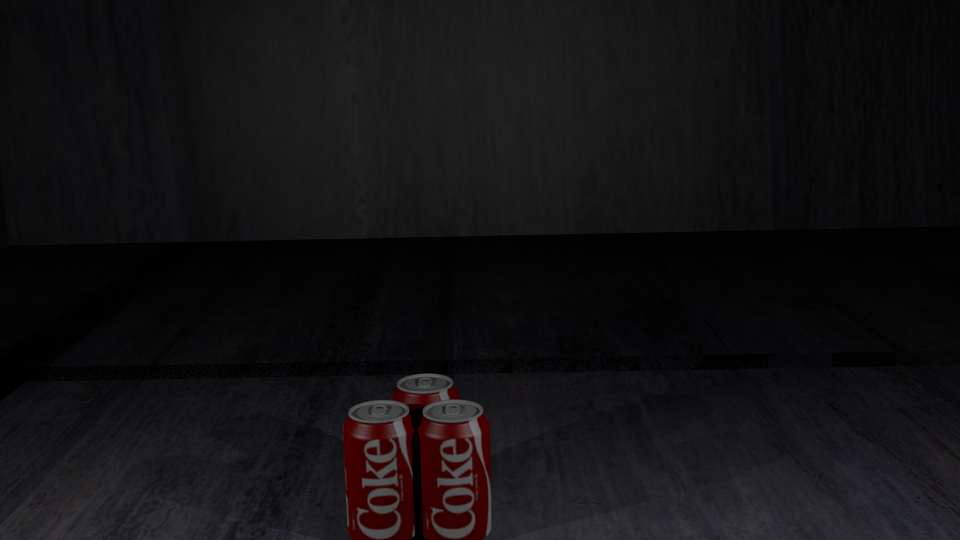cola_can: (343, 400, 417, 539), (417, 400, 490, 539), (392, 374, 459, 506)
